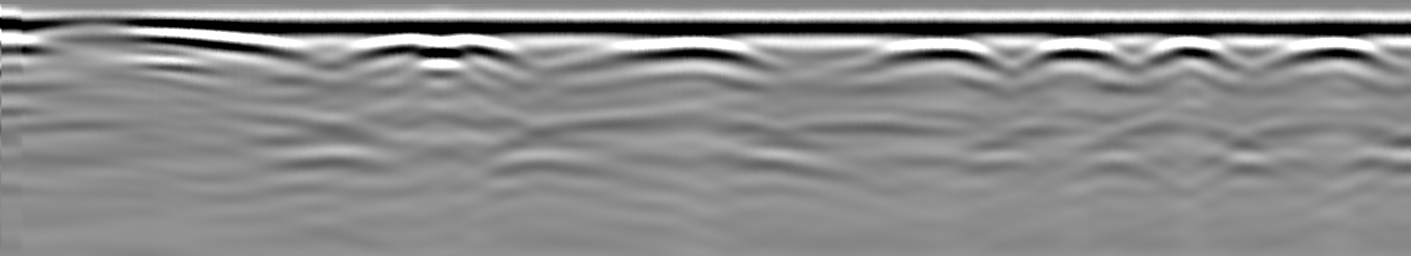pipe: (16, 17, 311, 60)
steel: (579, 34, 788, 72), (843, 32, 1013, 75), (340, 33, 527, 69), (1257, 35, 1395, 75), (1017, 35, 1140, 77), (1133, 34, 1249, 77)
